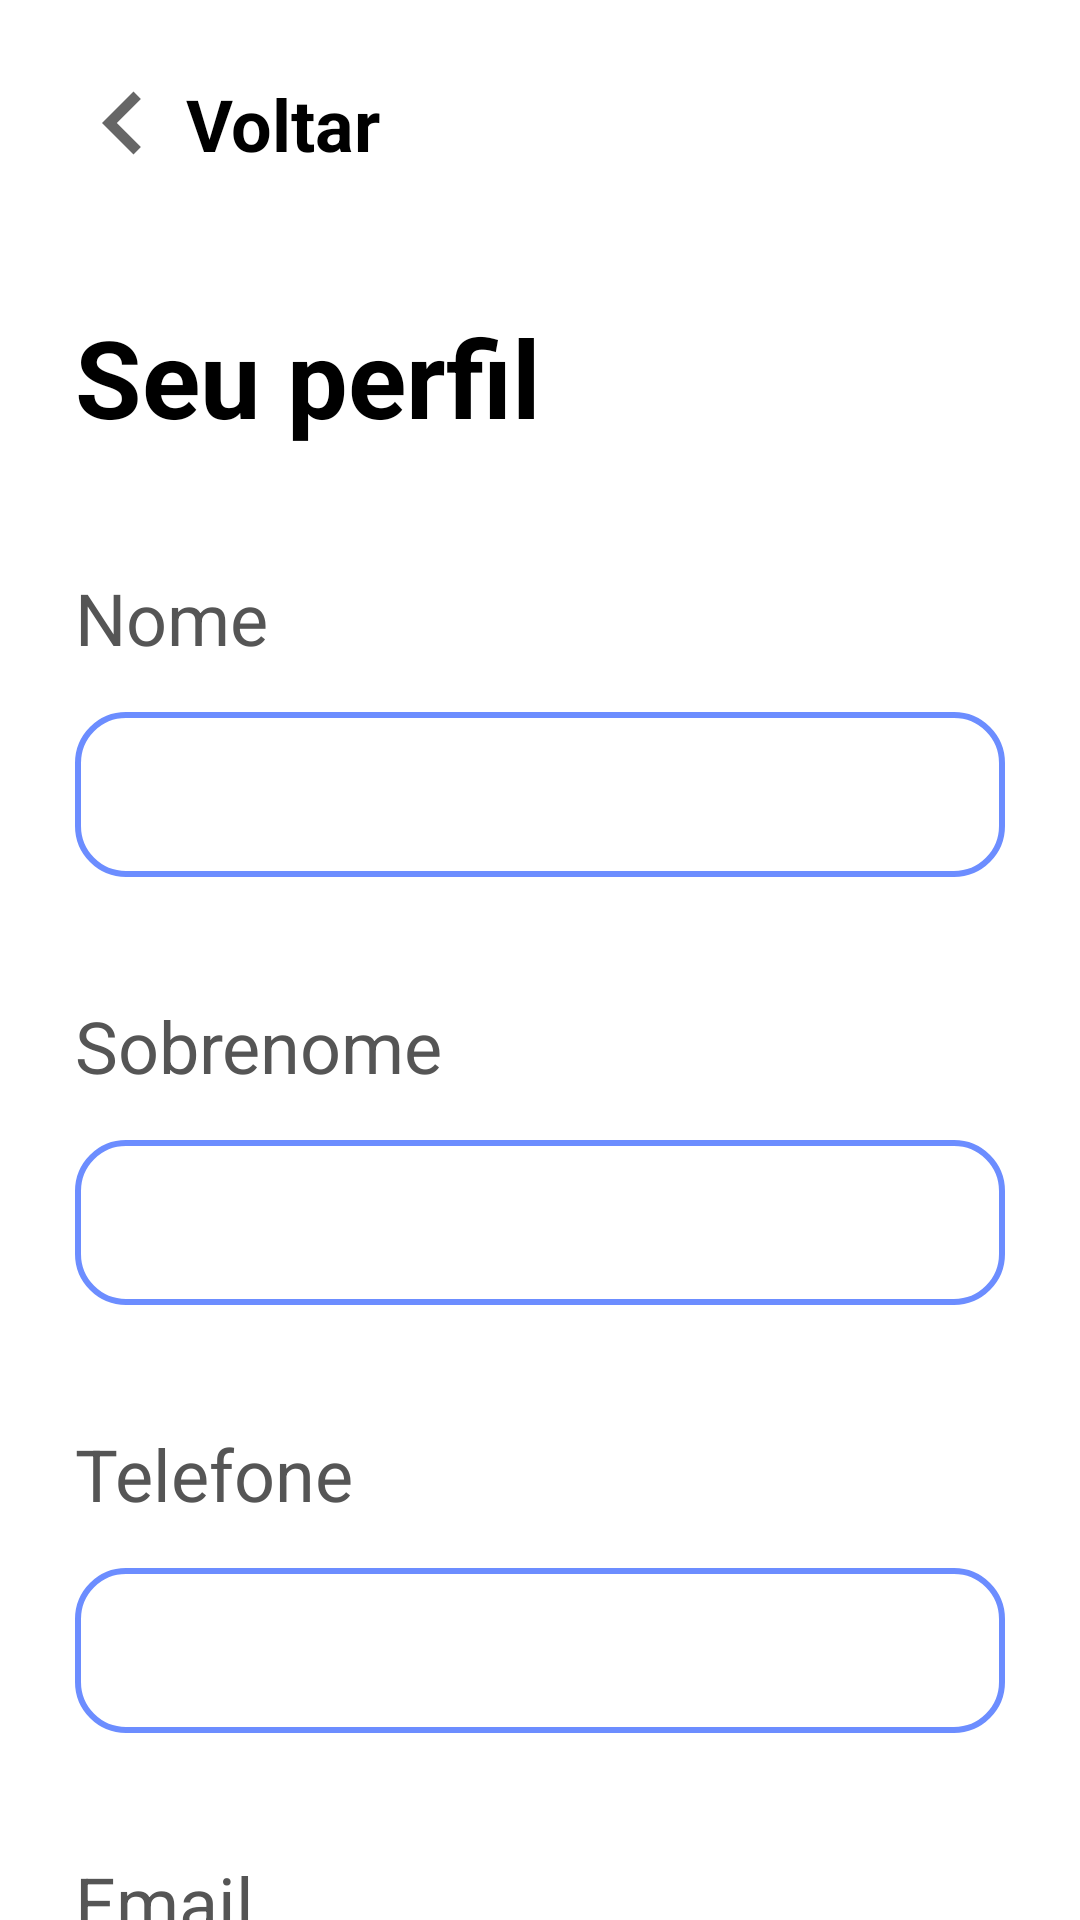

Icons on this 1080px x 1920px Android screen, each with the point to tap as point (x, y):
arrow left: point (121, 123)
